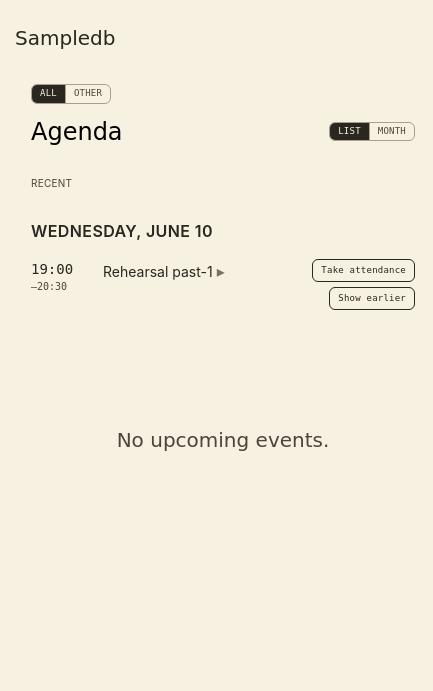
+page — attendance queue cross-event bleed + duplicate-write regressions (#77 fix-forward) › a write started on event A that resolves AFTER the panel reopens on event B does not bleed into B's panel
The width and height of the screenshot is (433, 691).
Expected: the element with test id "agenda-recent-row-past-1" is shown, [31,250,415,318]
Click the button with test id "agenda-recent-show-more": (372, 298) [329,286,415,310]
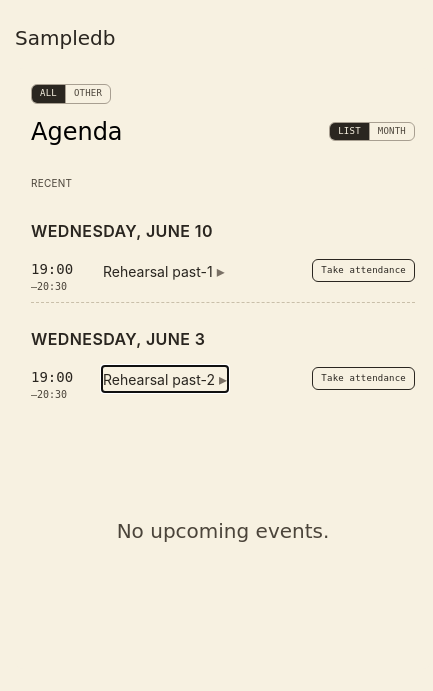
Click the button with test id "take-attendance-btn": (364, 270) [312,258,415,282]
(page scrolled)
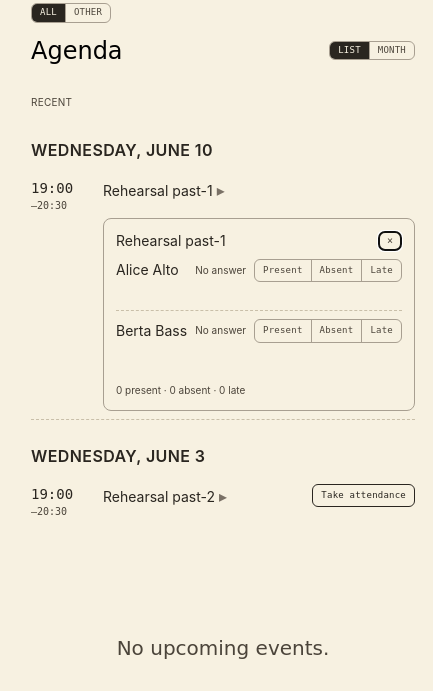
Expected: the button with test id "attendance-toggle-m1-present" is shown
Click the button with test id "attendance-toggle-m1-present": (283, 270) [255,260,312,281]
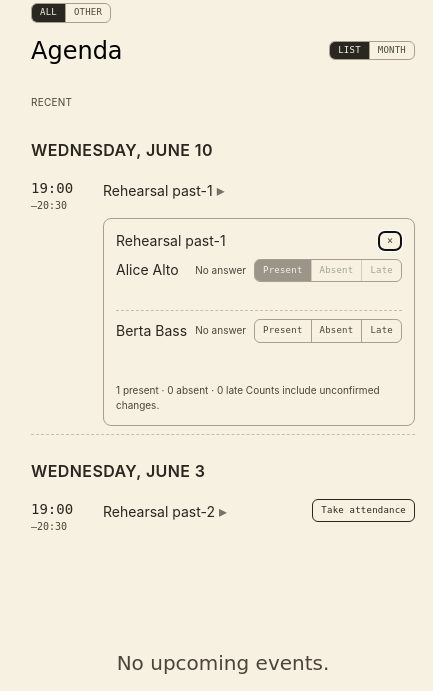
Click the button with test id "attendance-collapse-btn": (390, 240) [378,230,402,250]
(page scrolled)
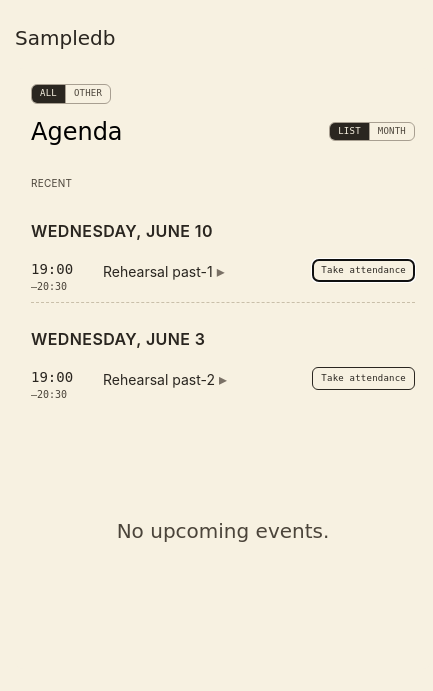
Expected: the element with test id "attendance-panel" is gone
Click the button with test id "take-attendance-btn": (364, 378) [312,366,415,390]
(page scrolled)
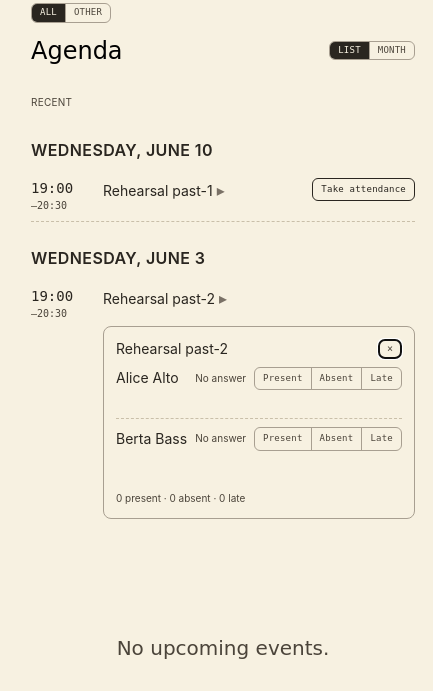
Expected: the button with test id "attendance-toggle-m1-present" is enabled, [255,368,312,389]
